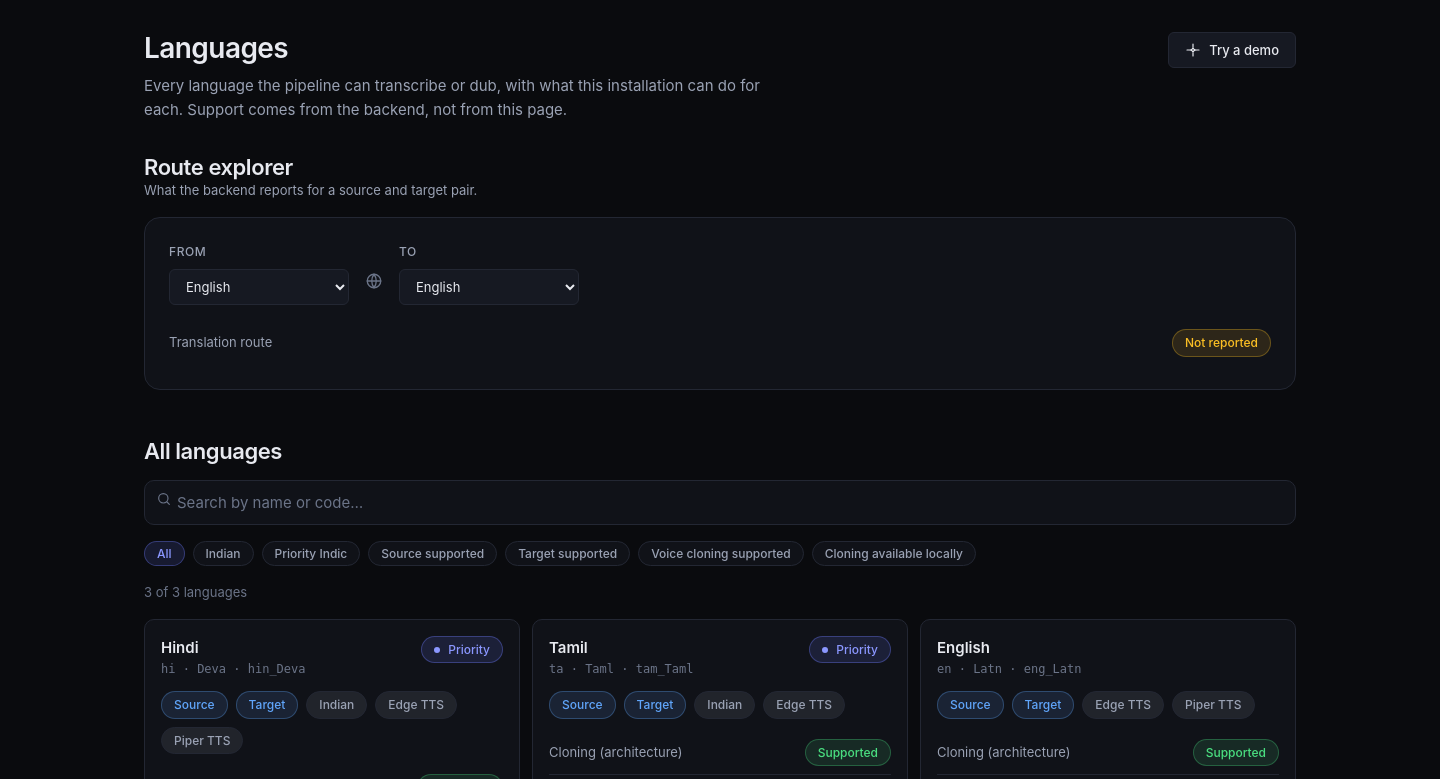
Test: LanguageExplorerPage › reports the route for a supported pair
Select "Hindi" in the dropdown labelled "To" at (489, 287), box 399,269 -> 579,305
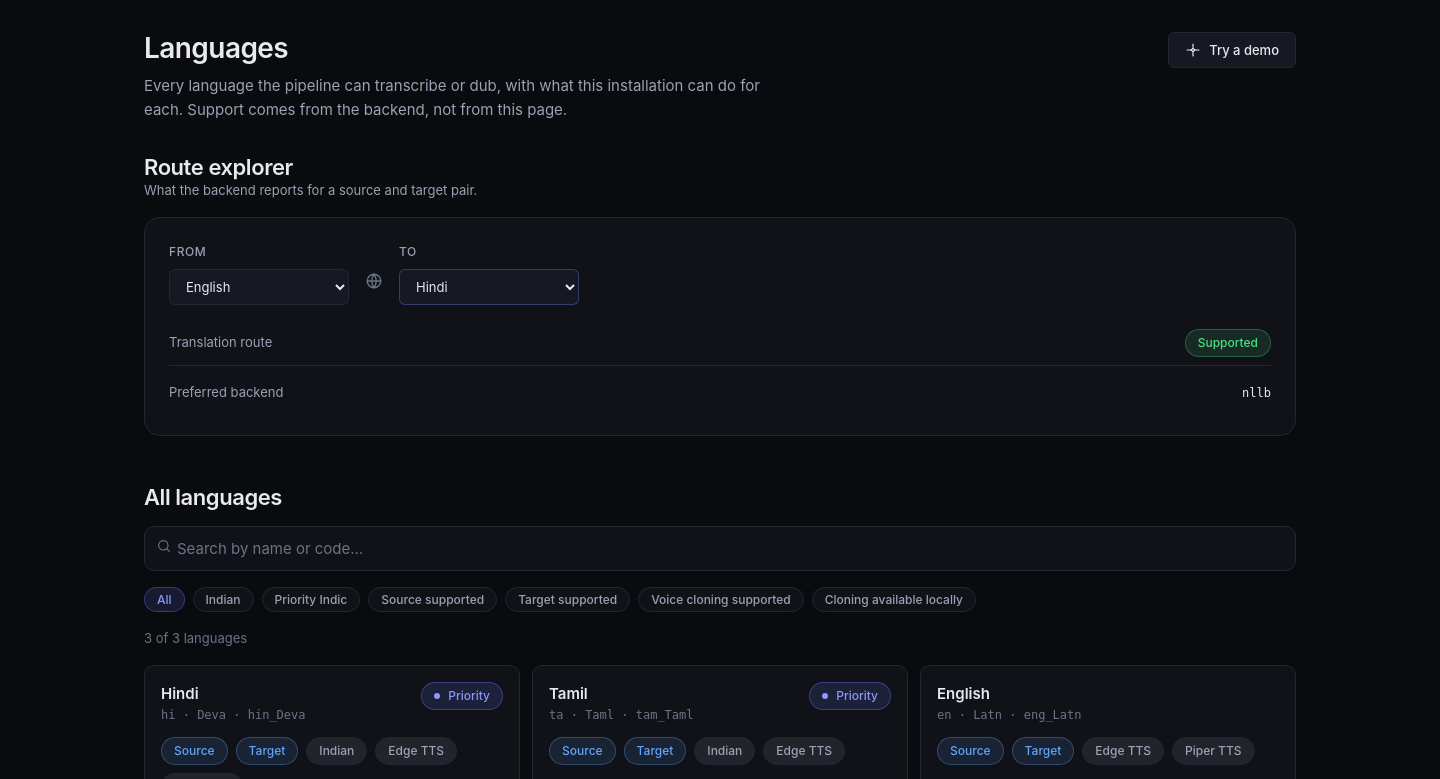
Expected: the text "Translation route" is shown, 169,332 -> 272,353
Now the text "nllb" is shown, box 1242,384 -> 1271,403
